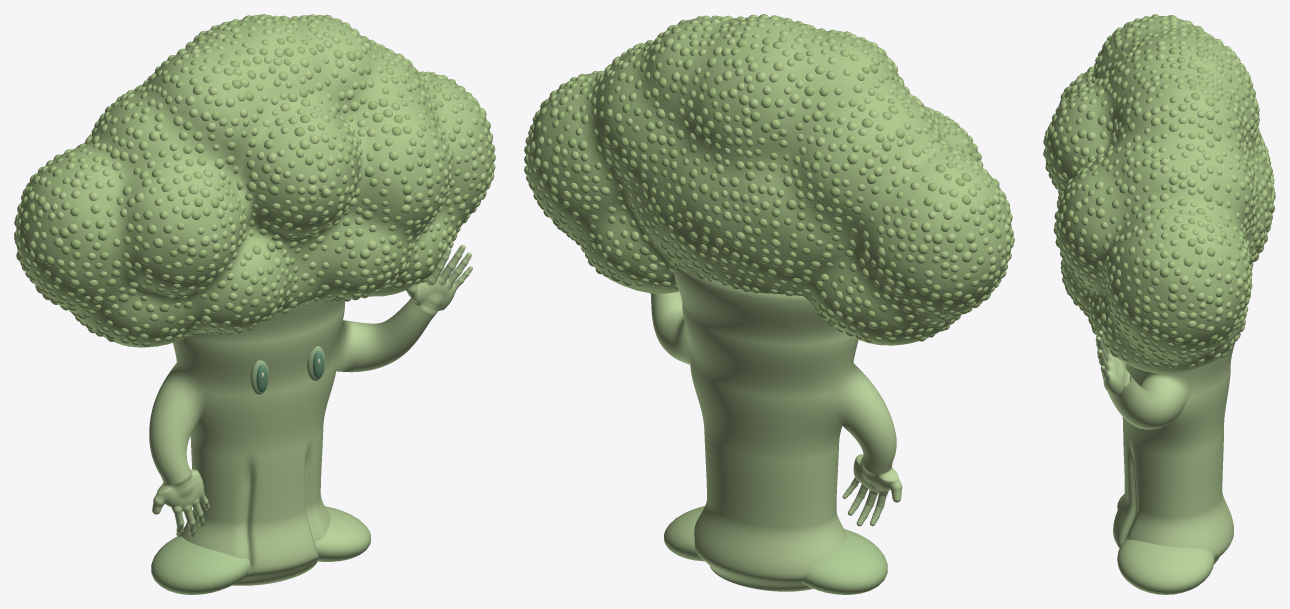
The model's file is gobhi-wave.glb.
The picture shows the model from 3 angles, left to right: view 1: azimuth 30°, elevation 25°; view 2: azimuth 150°, elevation 25°; view 3: azimuth 270°, elevation 25°; orthographic projection. The views are drawn at different scales.
Visible parts, largest first — view 1: crown, stem, florets-c, florets-b, florets-a, arm-left, arm-right, root-left, root-right; view 2: crown, stem, florets-b, florets-c, florets-a, arm-left, root-left, arm-right, root-right; view 3: crown, stem, florets-b, florets-a, florets-c, arm-right, root-right.
Part boxes in pixels (bbox=[...]): crown: bbox=[16, 16, 493, 347]; stem: bbox=[173, 298, 344, 585]; florets-c: bbox=[14, 14, 492, 345]; florets-b: bbox=[14, 15, 495, 343]; florets-a: bbox=[14, 14, 495, 347]; arm-left: bbox=[149, 362, 209, 536]; arm-right: bbox=[334, 244, 472, 372]; root-left: bbox=[151, 536, 249, 594]; root-right: bbox=[315, 506, 370, 561]; crown: bbox=[526, 16, 1011, 345]; stem: bbox=[674, 268, 858, 591]; florets-b: bbox=[525, 14, 1011, 342]; florets-c: bbox=[524, 14, 1013, 341]; florets-a: bbox=[524, 15, 1014, 342]; arm-left: bbox=[827, 363, 902, 526]; root-left: bbox=[802, 529, 887, 594]; arm-right: bbox=[650, 291, 690, 364]; root-right: bbox=[664, 506, 704, 561]; crown: bbox=[1045, 16, 1272, 374]; stem: bbox=[1113, 268, 1252, 564]; florets-b: bbox=[1044, 15, 1275, 368]; florets-a: bbox=[1046, 14, 1275, 366]; florets-c: bbox=[1043, 14, 1274, 363]; arm-right: bbox=[1096, 330, 1192, 429]; root-right: bbox=[1117, 538, 1214, 594].
Bounding box in the file's own units: 2.3 × 2.58 × 1.05.
